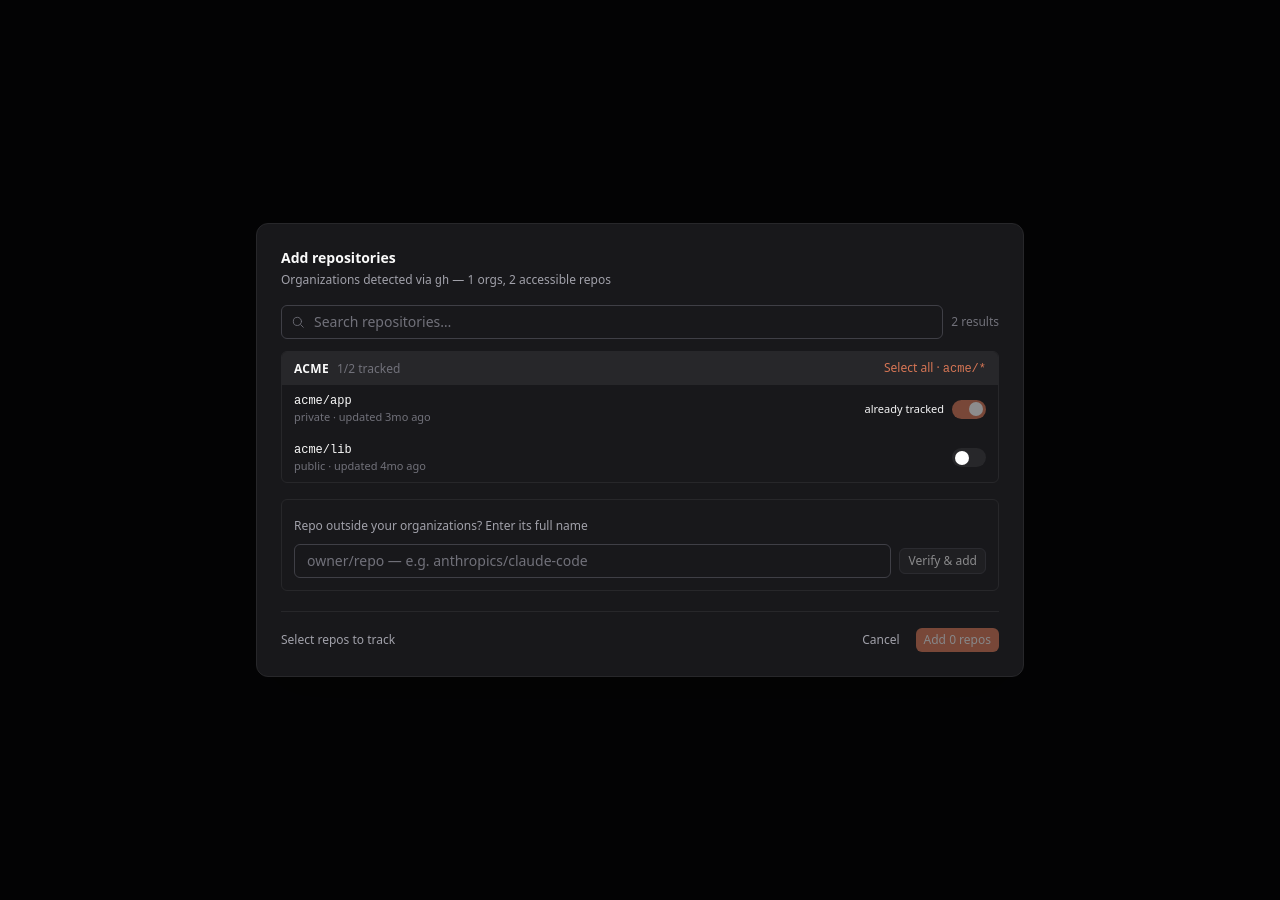
Test: AddRepositoriesModal › gates the free-form flow on format then existence
This screenshot has width=1280, height=900.
Expected: the text "acme/lib" is shown, [294,442,352,456]
Expected: the button "Verify & add" is disabled, [900,548,986,574]
Type "anthropics/claude-code" into the field with placeholder "owner/repo — e.g. anthropics/claude-code" at (593, 561), box [294,544,892,578]
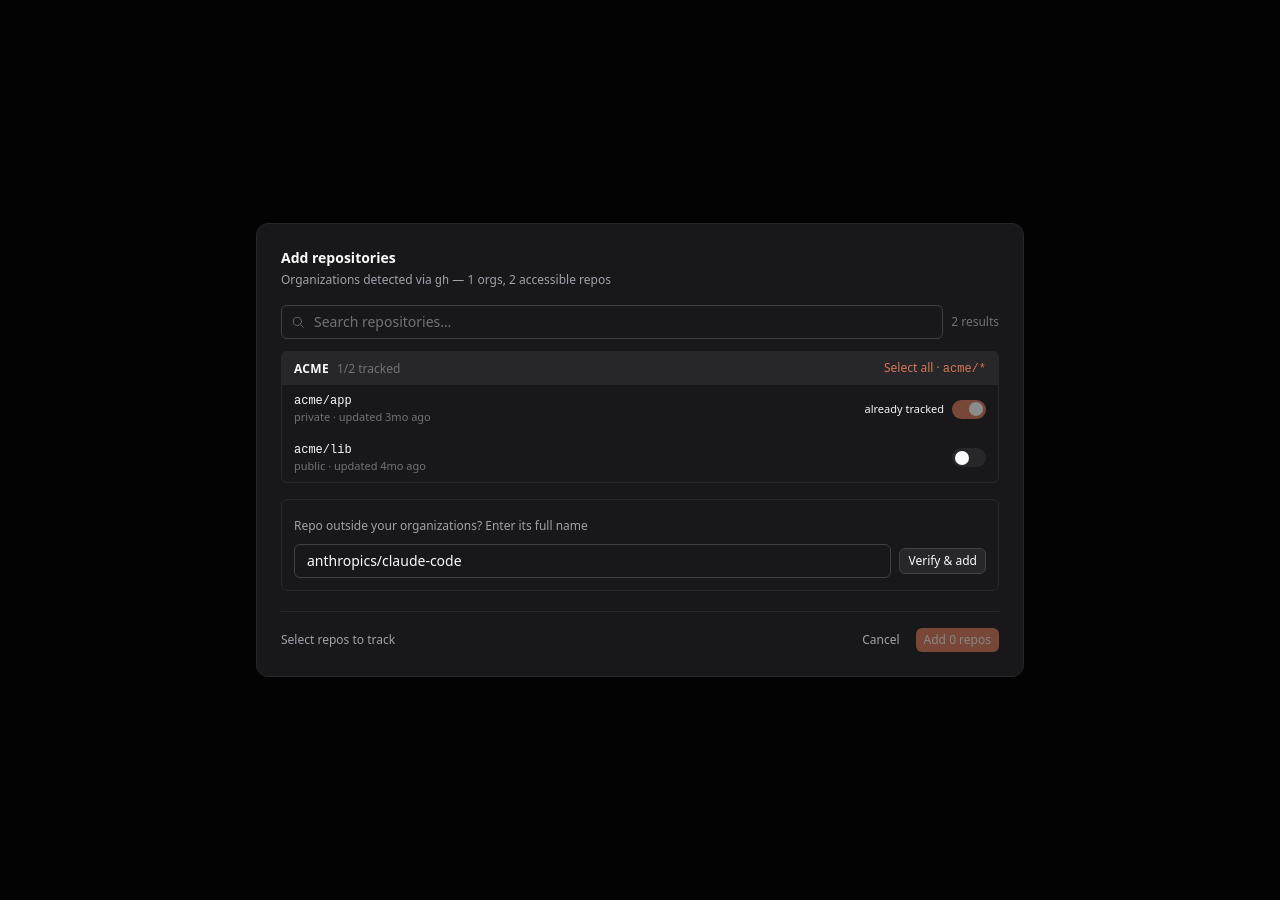
Expected: the button "Verify & add" is enabled
Click the button "Verify & add" at (943, 561), box [900,548,986,574]
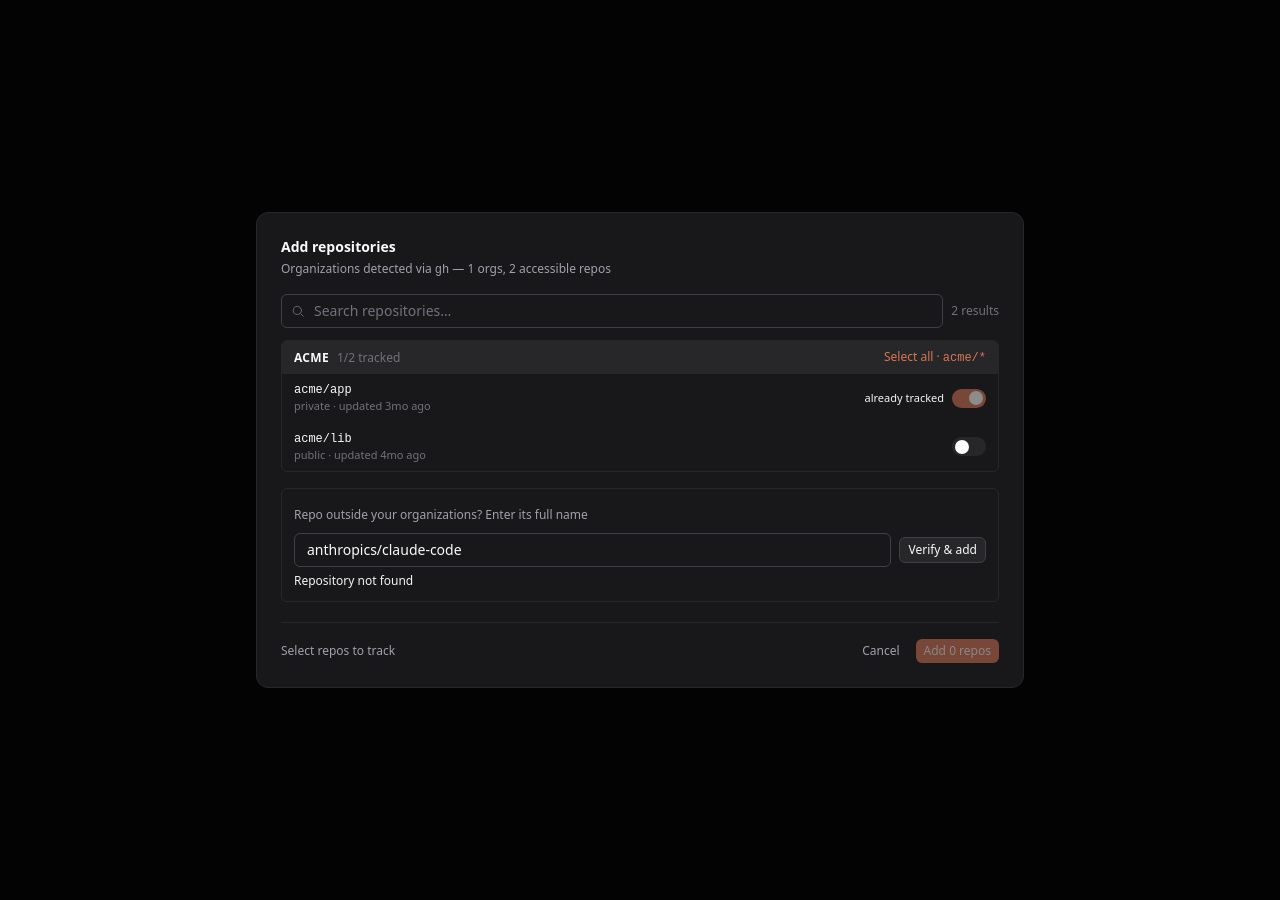
Expected: the text "Repository not found" is shown, [294,572,413,589]
